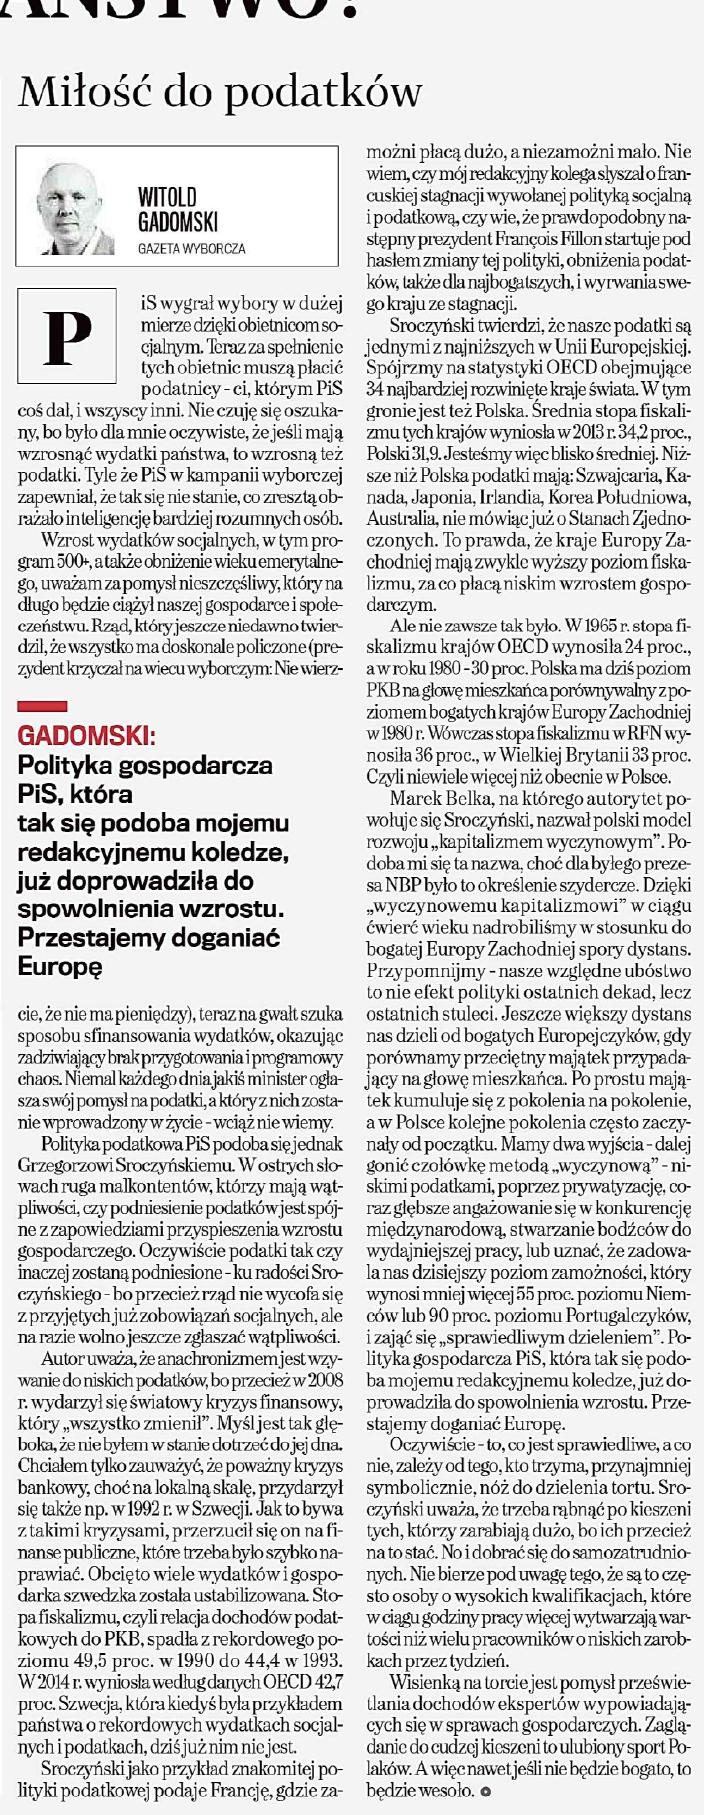author: (133, 178, 225, 237)
body: (360, 139, 698, 1805), (6, 1000, 353, 1806), (7, 274, 353, 685)
lead: (8, 691, 311, 986)
title: (7, 44, 449, 131)
